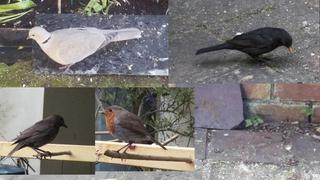blackbird: (195, 27, 293, 65)
collared dove: (27, 27, 142, 73)
robin: (98, 105, 168, 162)
starling: (7, 114, 68, 160)
